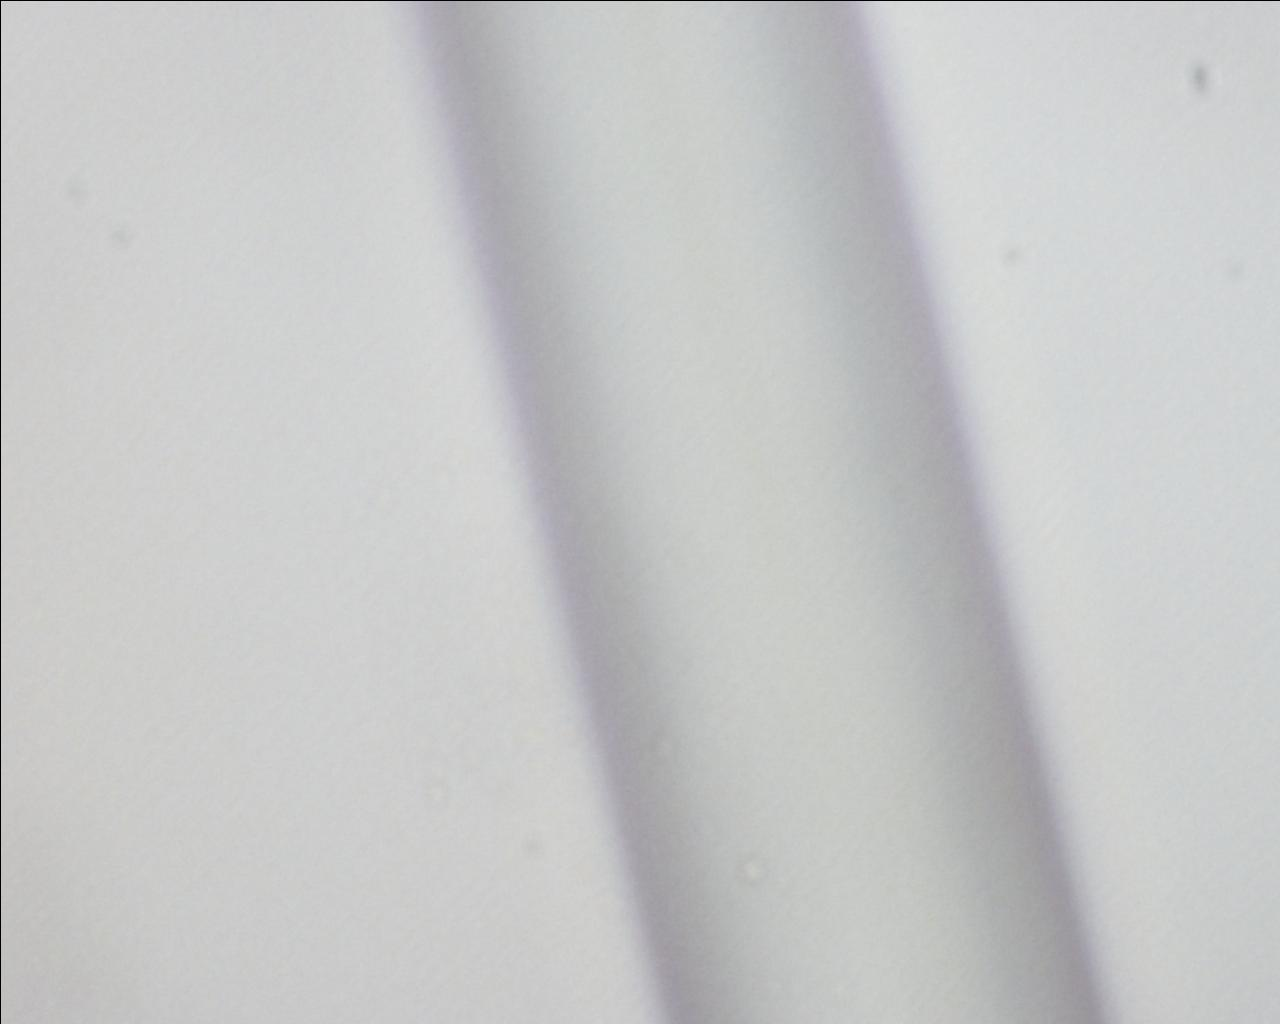fiber: (463, 419, 825, 1024), (955, 0, 1075, 419)
